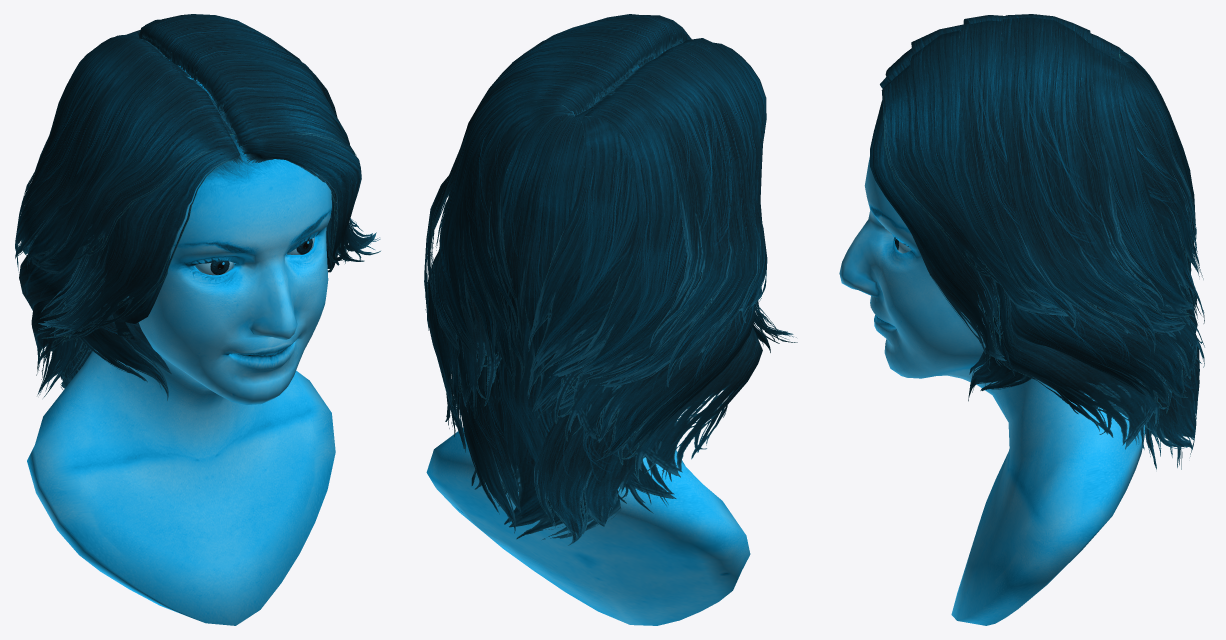
The model's file is nar.fbx.
3 renders of one model, left to right at view 1: azimuth 30°, elevation 25°; view 2: azimuth 150°, elevation 25°; view 3: azimuth 270°, elevation 25°, orthographic. The views are drawn at different scales.
Visible parts, largest first — view 1: face, hair, eyes; view 2: hair, face; view 3: hair, face.
Part boxes in pixels (x1,y1,x2,y2): face: (27,49,335,625); hair: (15,14,380,400); eyes: (194,237,314,275); hair: (424,14,797,545); face: (426,50,750,625); hair: (870,14,1204,469); face: (839,157,1144,625).
Size of the model in its own units: 19.5 by 29.09 by 16.65.
2 materials, 2 textured.
